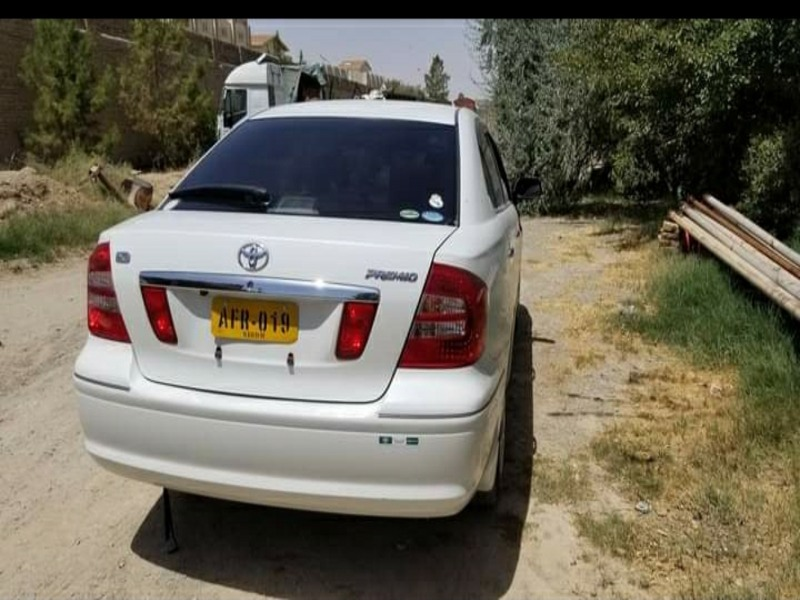License Plate: (206, 292, 304, 347)
